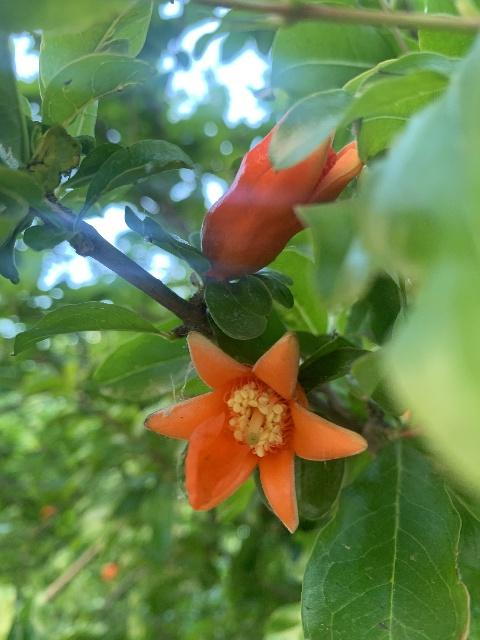flower: (146, 330, 366, 532), (202, 113, 364, 279)
